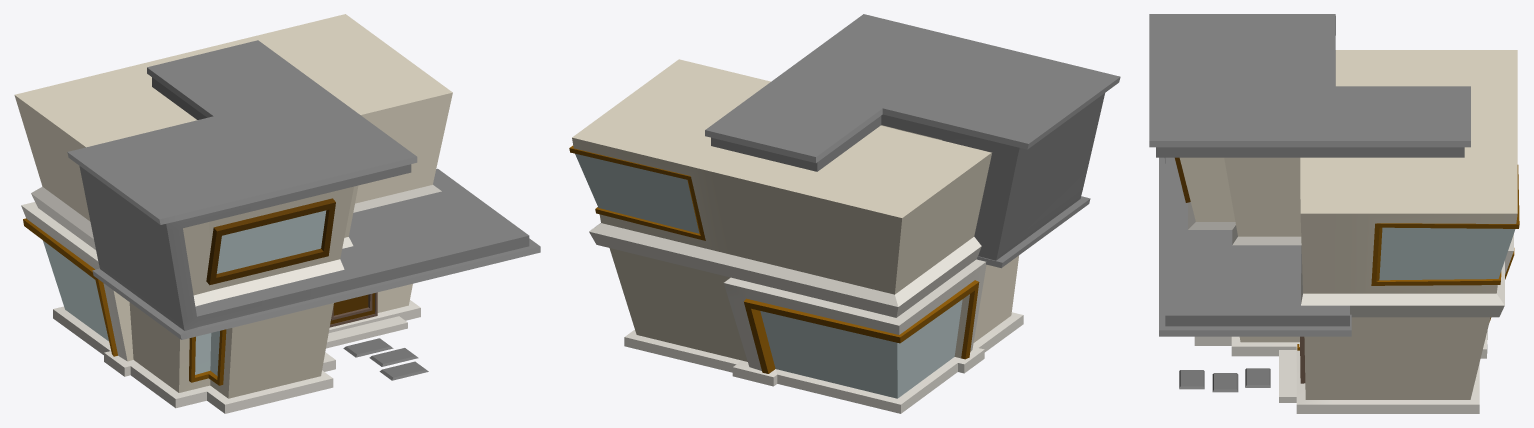
The model's file is Casa_02.fbx.
3 renders of one model, left to right at view 1: azimuth 30°, elevation 25°; view 2: azimuth 150°, elevation 25°; view 3: azimuth 270°, elevation 25°, orthographic.
Visible parts, largest first — view 1: Casa_02_Detalle, Casa_02_Pared, Casa_02_Ventana, Casa_02_Escalon, Casa_02_Puerta, Casa_02_Piedra_01, Casa_02_Piedra_03, Casa_02_Piedra_02; view 2: Casa_02_Pared, Casa_02_Detalle; view 3: Casa_02_Pared, Casa_02_Detalle, Casa_02_Escalon, Casa_02_Piedra_02, Casa_02_Piedra_03, Casa_02_Piedra_01.
Part boxes in pixels (box(x1,y1,x2,y2)): Casa_02_Detalle: box(67, 40, 540, 339); Casa_02_Pared: box(14, 14, 452, 413); Casa_02_Ventana: box(206, 198, 335, 285); Casa_02_Escalon: box(326, 316, 407, 348); Casa_02_Puerta: box(329, 292, 377, 327); Casa_02_Piedra_01: box(343, 338, 393, 357); Casa_02_Piedra_03: box(379, 361, 428, 380); Casa_02_Piedra_02: box(369, 348, 418, 366); Casa_02_Pared: box(569, 59, 1023, 413); Casa_02_Detalle: box(705, 14, 1120, 268); Casa_02_Pared: box(1179, 50, 1519, 413); Casa_02_Detalle: box(1149, 14, 1470, 336); Casa_02_Escalon: box(1279, 350, 1296, 402); Casa_02_Piedra_02: box(1212, 373, 1238, 392); Casa_02_Piedra_03: box(1179, 370, 1204, 389); Casa_02_Piedra_01: box(1245, 368, 1270, 387).
Size of the model in its own units: 34.11 by 19.68 by 28.02.
